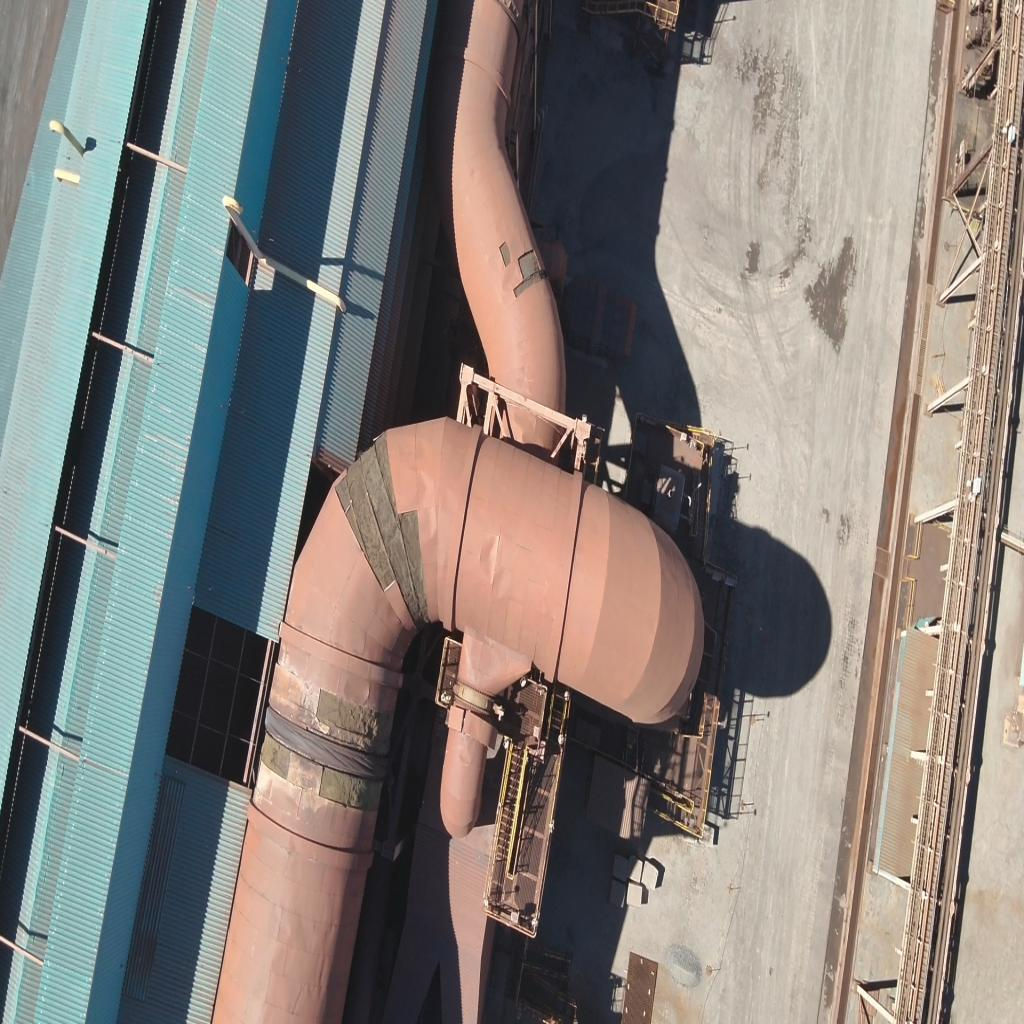Failures: (340, 444, 428, 627), (260, 736, 382, 814), (318, 681, 391, 746), (516, 250, 548, 294), (495, 235, 513, 272)
